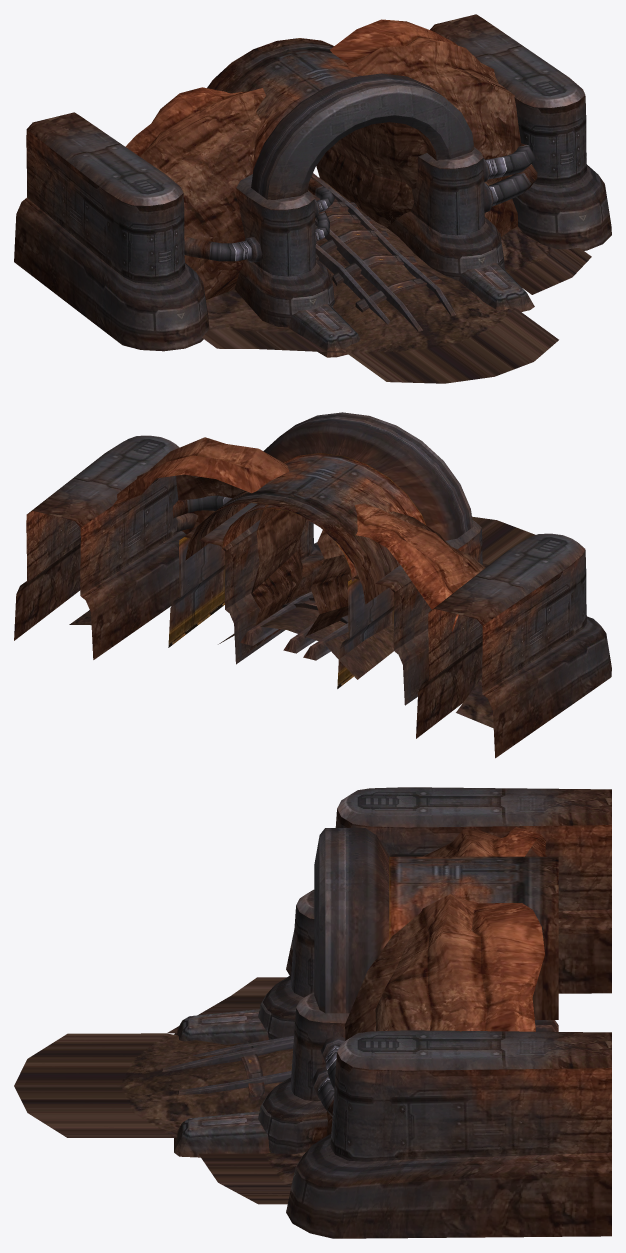
The model's file is marsaracliffdoodadlargelow_00.fbx.
3 views of the same model, one above another, from view 1: azimuth 30°, elevation 25°; view 2: azimuth 150°, elevation 25°; view 3: azimuth 270°, elevation 25° (orthographic). The views are drawn at different scales.
Parts seen in each view (by area): view 1: Geoset_1, Geoset_0; view 2: Geoset_1, Geoset_0; view 3: Geoset_1, Geoset_0.
Boxes of the visible parts, x1,y1,x2,y2 form: Geoset_1: (14, 14, 611, 357); Geoset_0: (202, 177, 591, 383); Geoset_1: (14, 412, 611, 758); Geoset_0: (69, 516, 535, 728); Geoset_1: (162, 787, 611, 1238); Geoset_0: (14, 977, 305, 1204).
Size of the model in its own units: 5.17 by 2.04 by 4.42.
2 materials, 2 textured.
